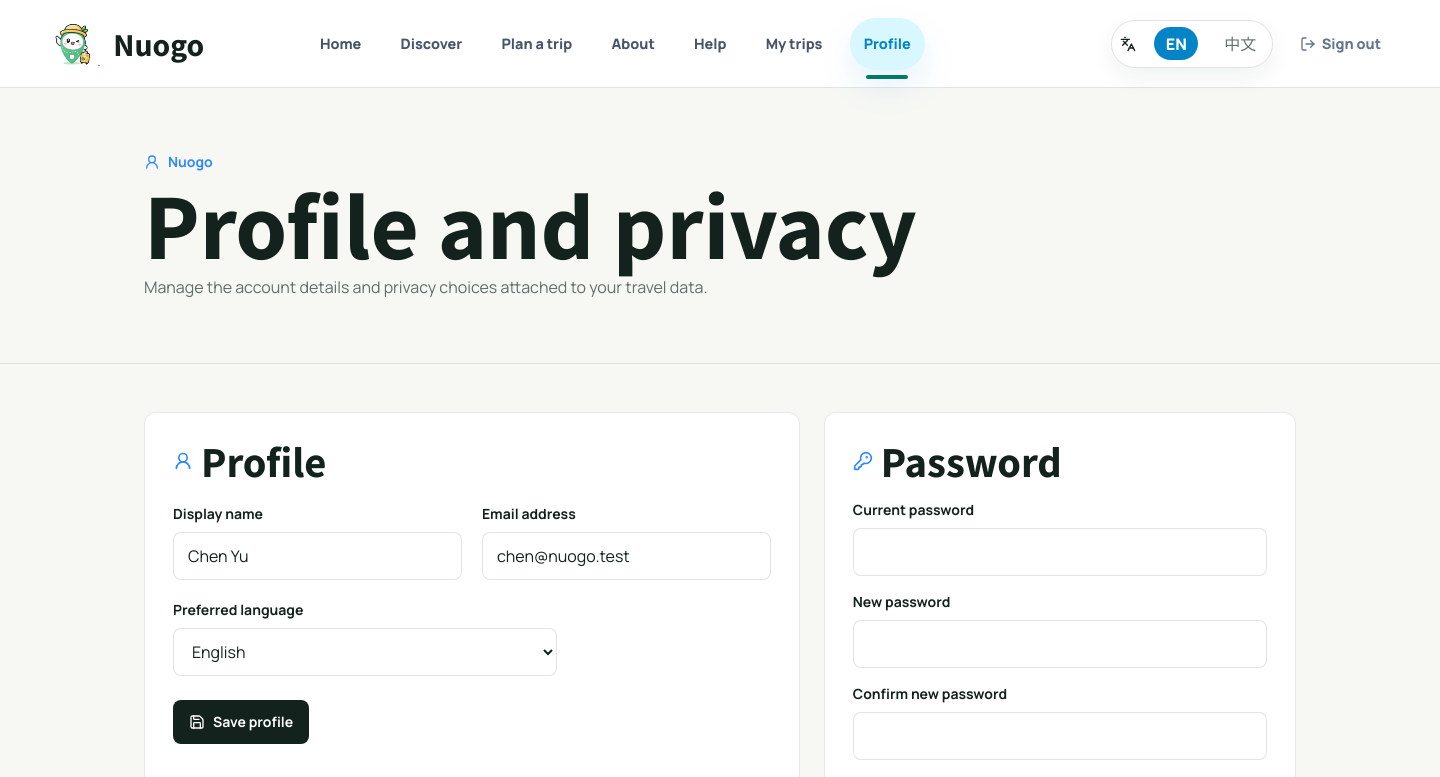
Scenario: ProfilePage › shows a field-specific wrong-current-password error
Expected: the heading "Profile and privacy" is shown, left=144, top=163, right=917, bottom=283
Type "Incorrect123!" into the password field labelled "Current password" at (1060, 552), box left=853, top=528, right=1267, bottom=576
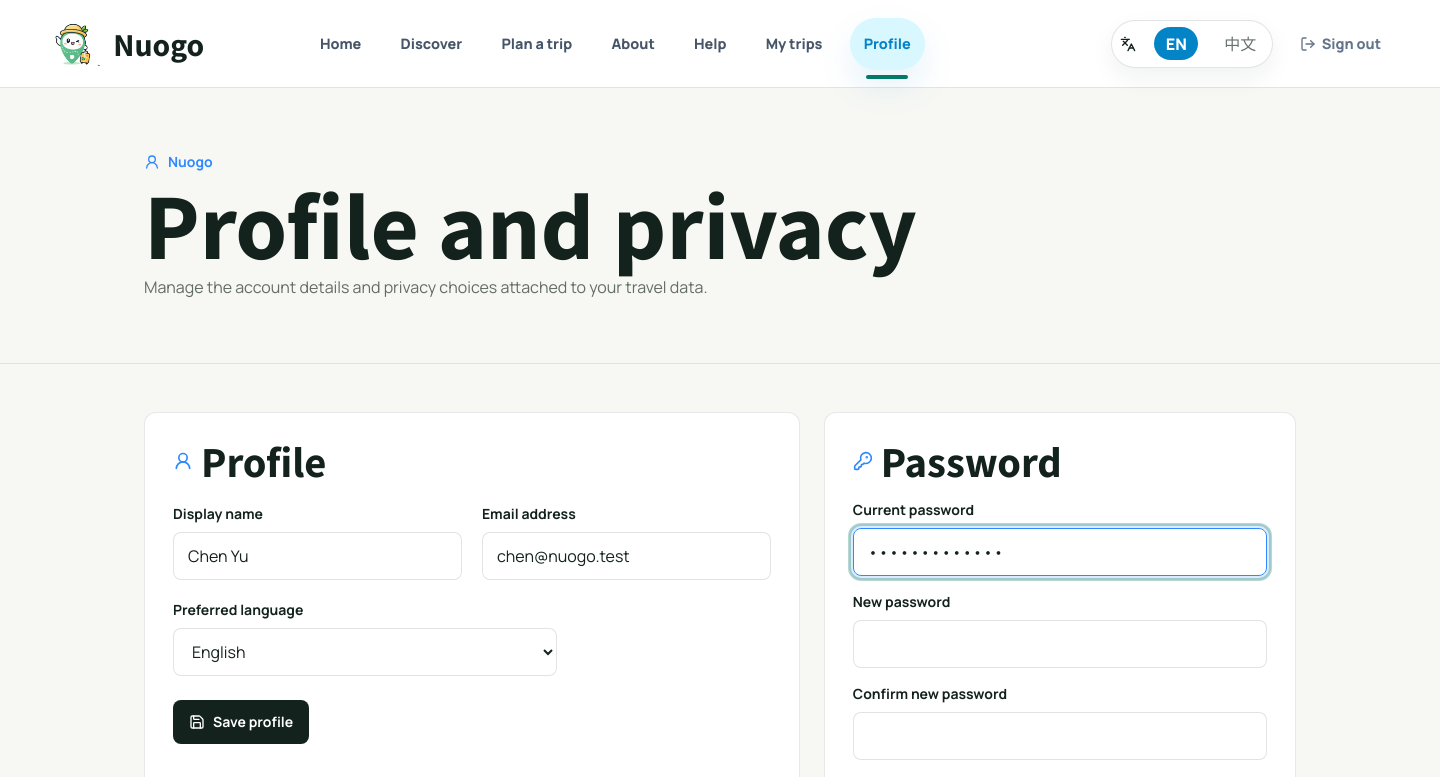
Type "NewNuogo456!" into the password field labelled "New password" at (1060, 644), box left=853, top=620, right=1267, bottom=668
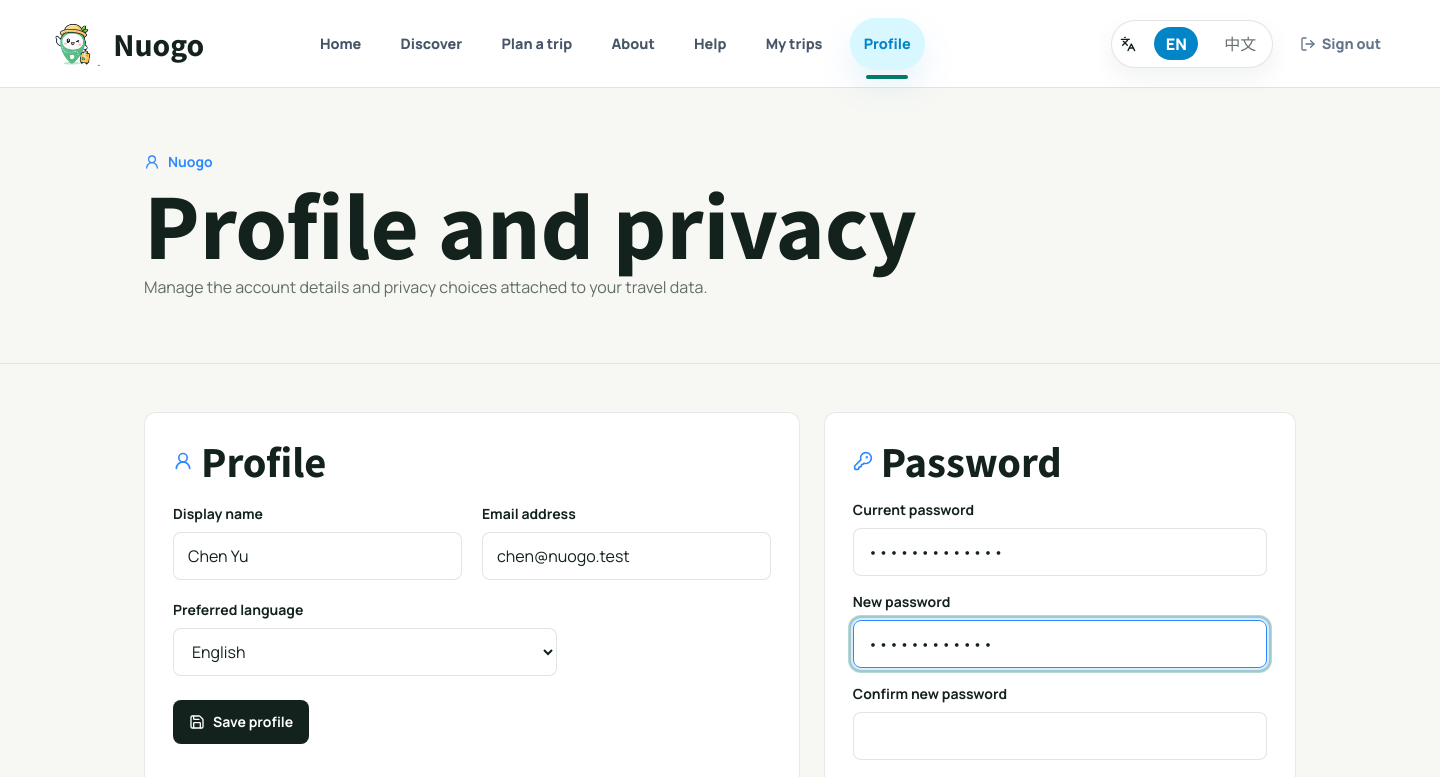
Type "NewNuogo456!" into the password field labelled "Confirm new password" at (1060, 736), box left=853, top=712, right=1267, bottom=760
(page scrolled)
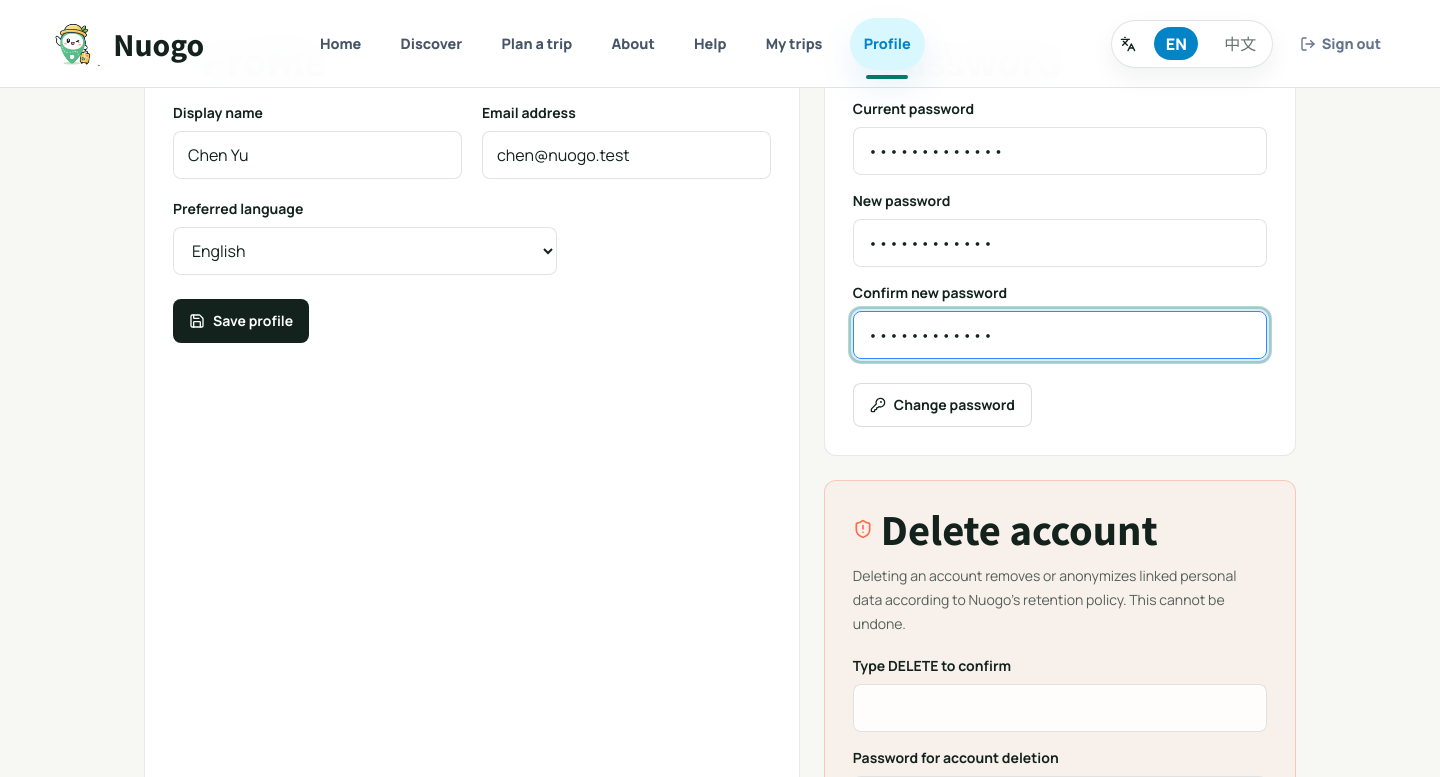
Click the button "Change password" at (942, 405), box left=853, top=383, right=1032, bottom=427
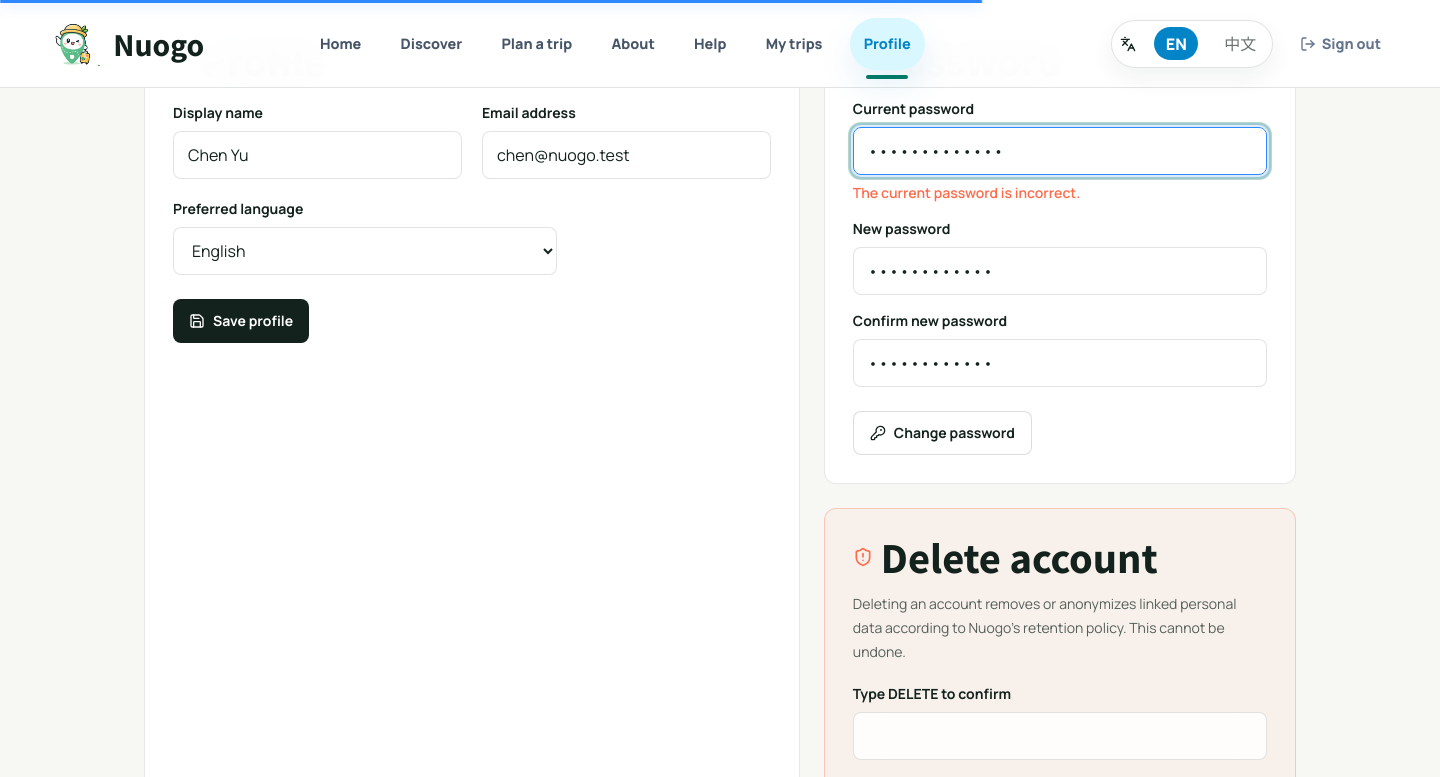
Result: the message reads "The current password is incorrect." at left=853, top=183, right=1080, bottom=202
